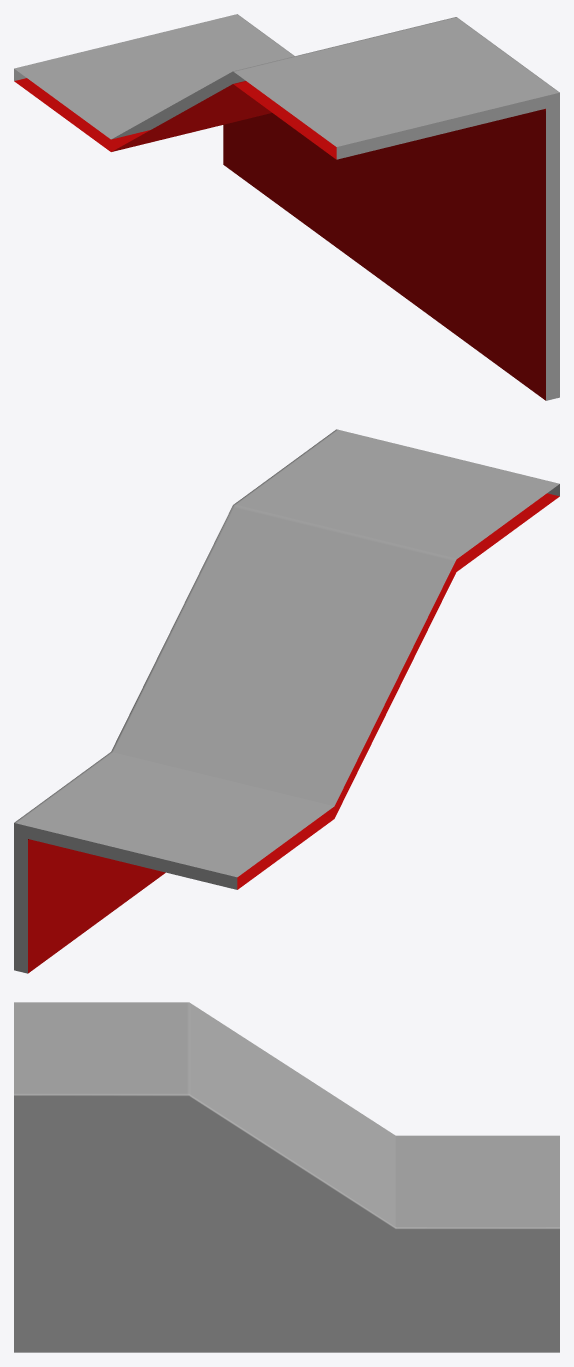
File: Stairs_Wall_Top_Snaps014.fbx
The picture shows the model from 3 angles, top to bottom: view 1: azimuth 30°, elevation 25°; view 2: azimuth 150°, elevation 25°; view 3: azimuth 270°, elevation 25°; orthographic projection. The views are drawn at different scales.
Parts seen in each view (by area): view 1: Stairs_Wall_Top_LOD00; view 2: Stairs_Wall_Top_LOD00; view 3: Stairs_Wall_Top_LOD00.
Boxes of the visible parts, x1,y1,x2,y2 form: Stairs_Wall_Top_LOD00: (14, 14, 559, 400); Stairs_Wall_Top_LOD00: (14, 429, 559, 973); Stairs_Wall_Top_LOD00: (14, 1002, 559, 1352).
Size of what is drawn, in the model's own units: 320 by 417 by 800.
